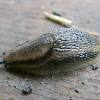slug: (5, 31, 97, 75)
